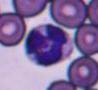N: (24, 24, 73, 66)
